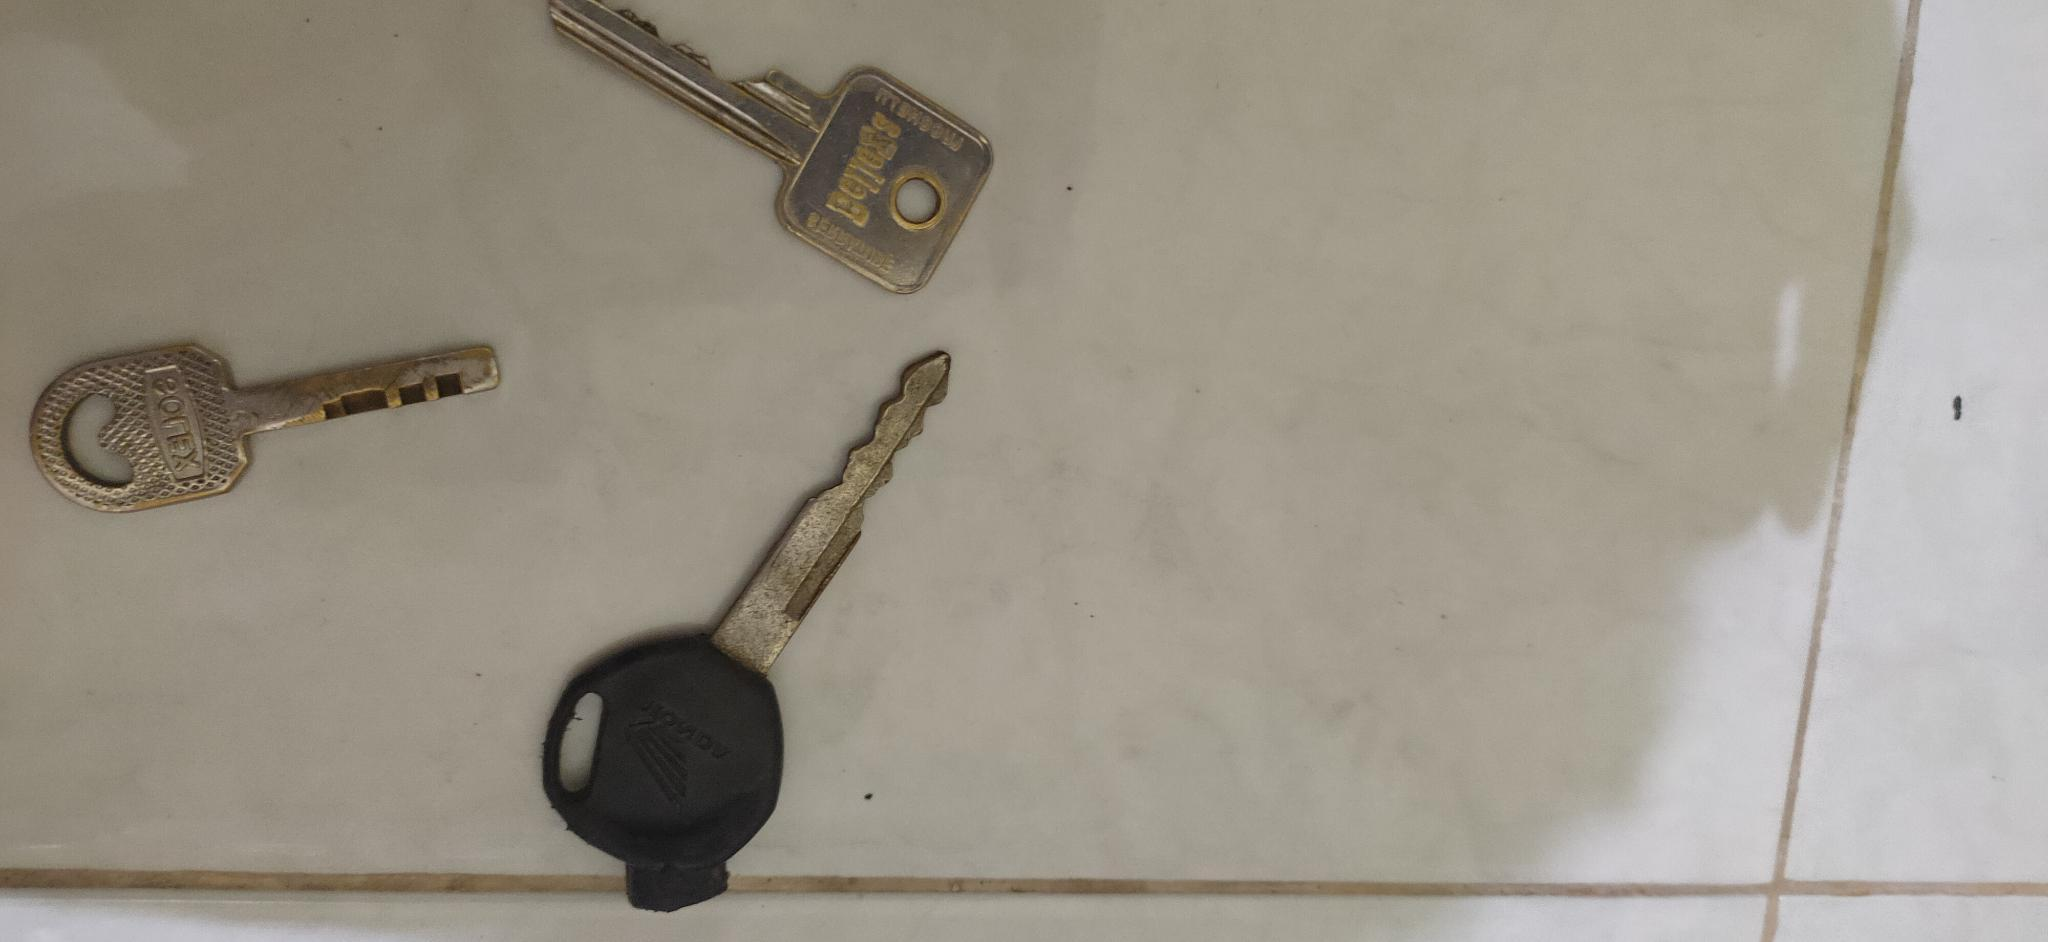keys: (520, 331, 990, 924), (549, 1, 1006, 310), (24, 327, 507, 517)
